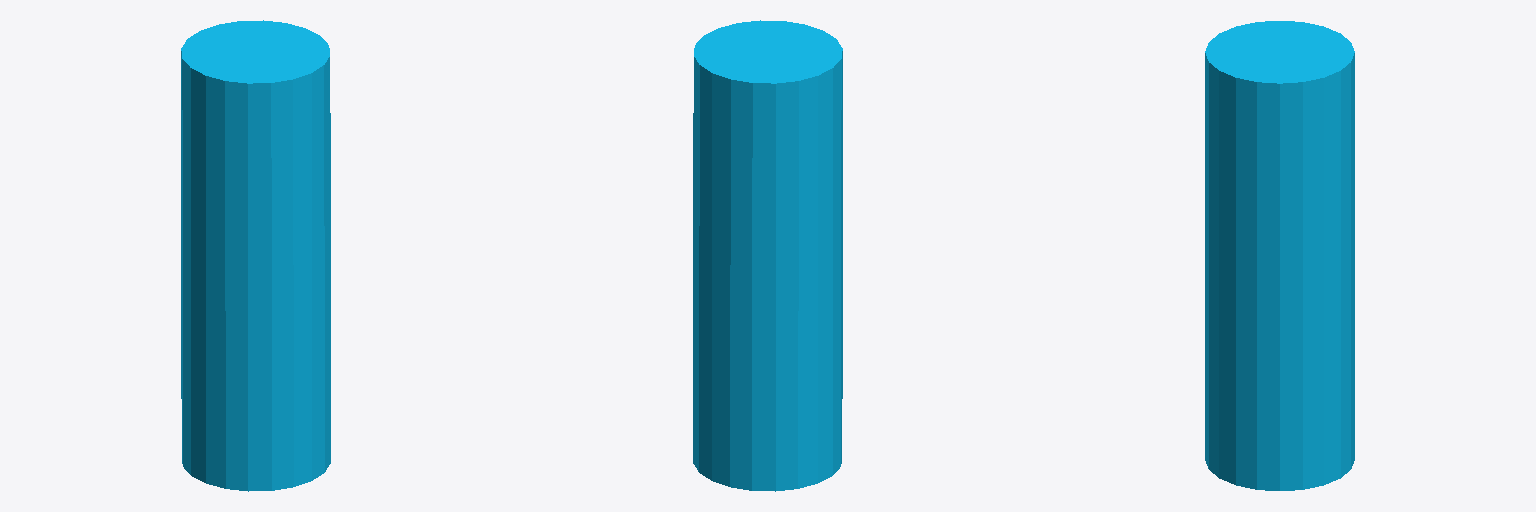
URDF robot description (bottle):
<?xml version="1.0" ?>
<robot name="bottle">
  <link name="world"/>
  <joint name="bottle_to_world" type="fixed">
    <parent link="world"/>
    <child link="bottle"/>
    <origin rpy="0 1.57 0" xyz="0 0 0"/>
  </joint>
  <link name="bottle">
    <contact>
      <rolling_friction value="0.001"/>
      <spinning_friction value="0.001"/>
      <restitution value="0.9"/>
    </contact>
    <inertial>
      <origin rpy="0 0 0" xyz="0 0 0"/>
      <!--        <mass value="${3.14159 * radius * radius * height}"/>-->
      <mass value="0.5"/>
      <inertia ixx="1" ixy="0" ixz="0" iyy="1" iyz="0" izz="1"/>
    </inertial>
    <visual>
      <origin rpy="0 0 0" xyz="0 0 0"/>
      <geometry>
        <mesh filename="package://objects_description/meshes/visual/bottle.obj" scale="1.0 1.0 1.0"/>
      </geometry>
      <material name="blue">
        <color rgba="0.1 0.8 1 0.8"/>
      </material>
    </visual>
    <!--collision>
      <origin rpy="0 0 0" xyz="0 0 0"/>
      <geometry>
		<cylinder length="18" radius="3"/>
      </geometry>
    </collision-->
  </link>
</robot>

--- What the picture shows (computed from the rendered views, not written in the file) ---
The picture shows the robot from 3 angles, left to right: view 1: azimuth 30°, elevation 25°; view 2: azimuth 150°, elevation 25°; view 3: azimuth 270°, elevation 25°; orthographic projection.
Robot: bottle — 2 links, 1 joints (1 fixed); root link world; default pose: all joints at 0.
Visible links, largest first — view 1: bottle; view 2: bottle; view 3: bottle.
Link boxes in pixels (left/top/right/bottom): bottle: left=181, top=20, right=330, bottom=491; bottle: left=693, top=20, right=842, bottom=491; bottle: left=1205, top=21, right=1354, bottom=490.
Size in the robot's own frame: 6.01 by 6 by 18 metres.
Meshes: 1 distinct files referenced, 1 mesh visuals loaded (1 OBJ).